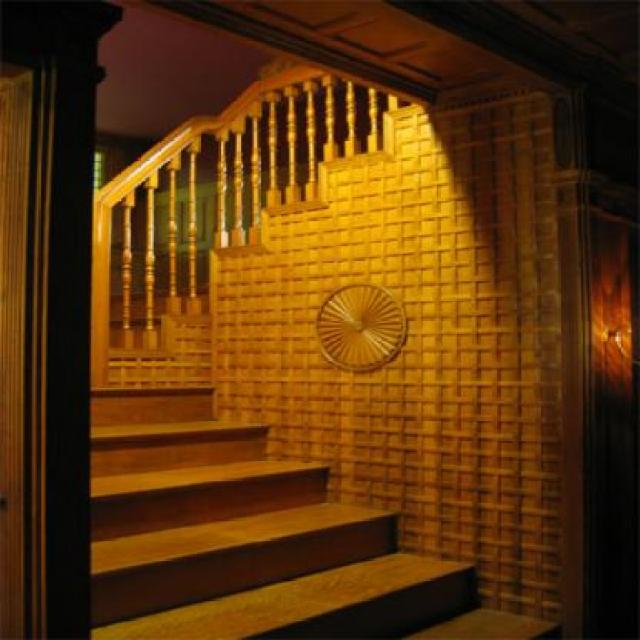stair: (89, 384, 563, 638), (108, 101, 420, 382)
